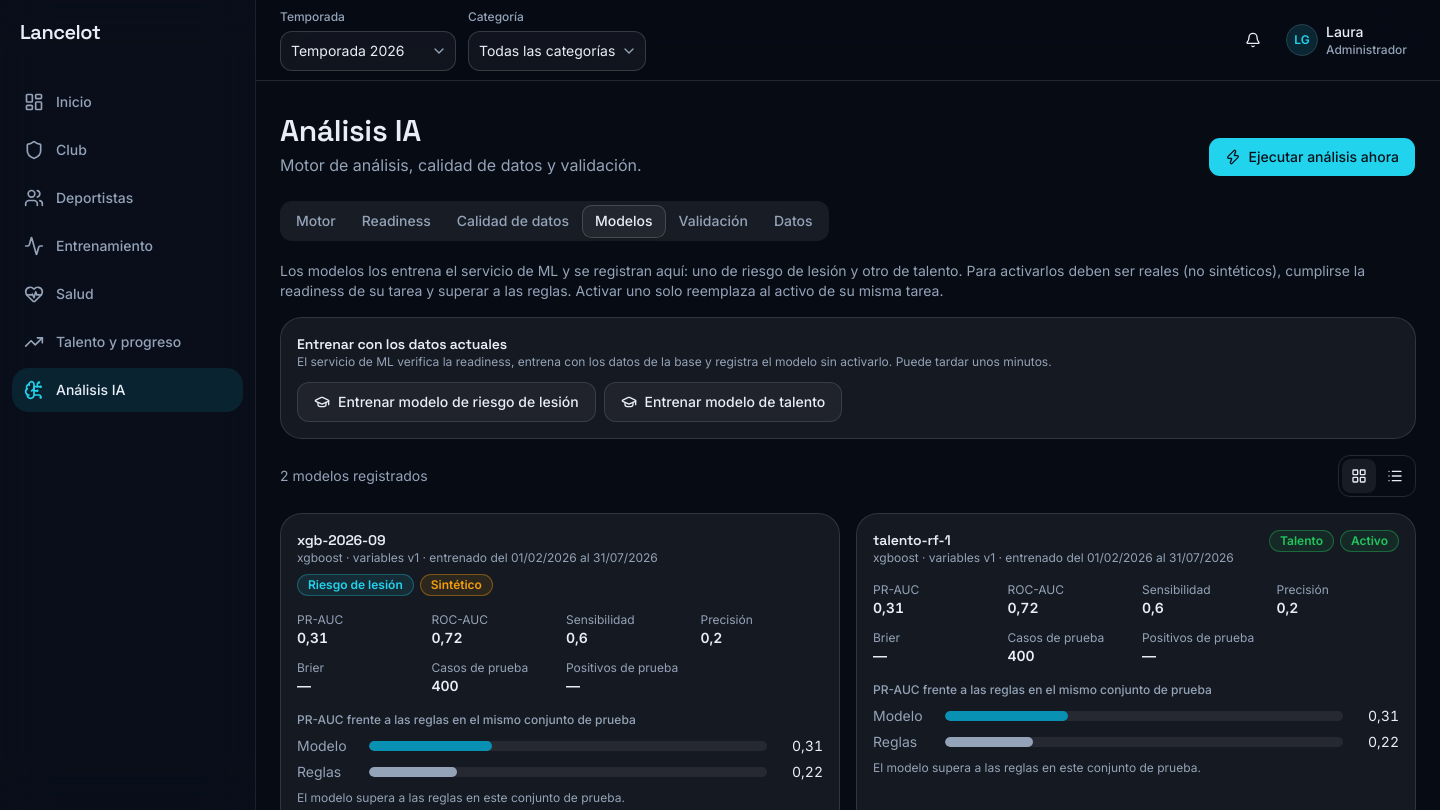
análisis IA › muestra los modelos en una tabla con sus acciones
Click the button named "Ver como tabla" at (1395, 476), box [1377, 458, 1413, 494]
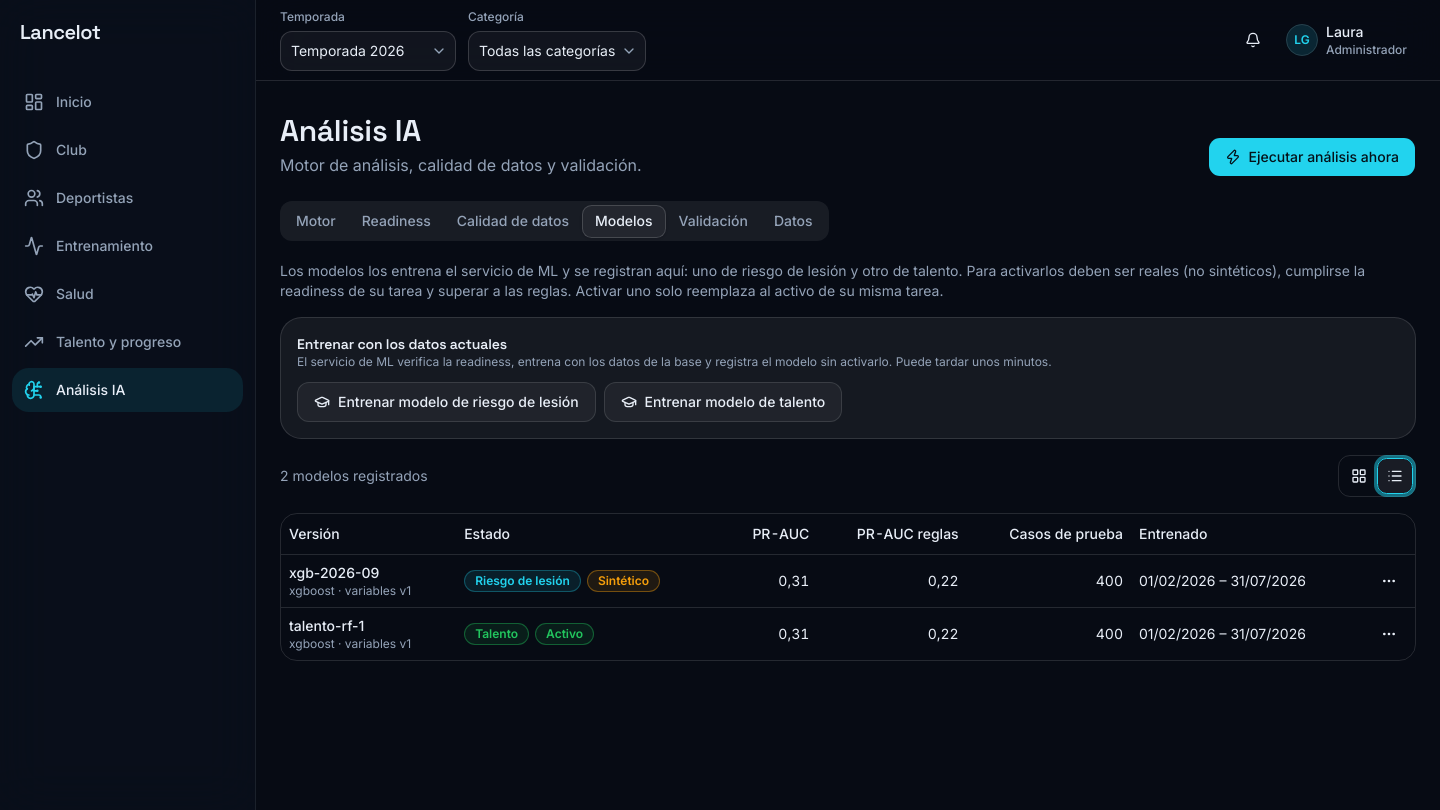
expect the text "xgb-2026-09" is shown: met, box [289, 564, 379, 580]
expect the text "talento-rf-1" is shown: met, box [289, 616, 364, 634]
Click the button named "Más acciones para xgb-2026-09" at (1389, 580), box [1371, 562, 1407, 598]
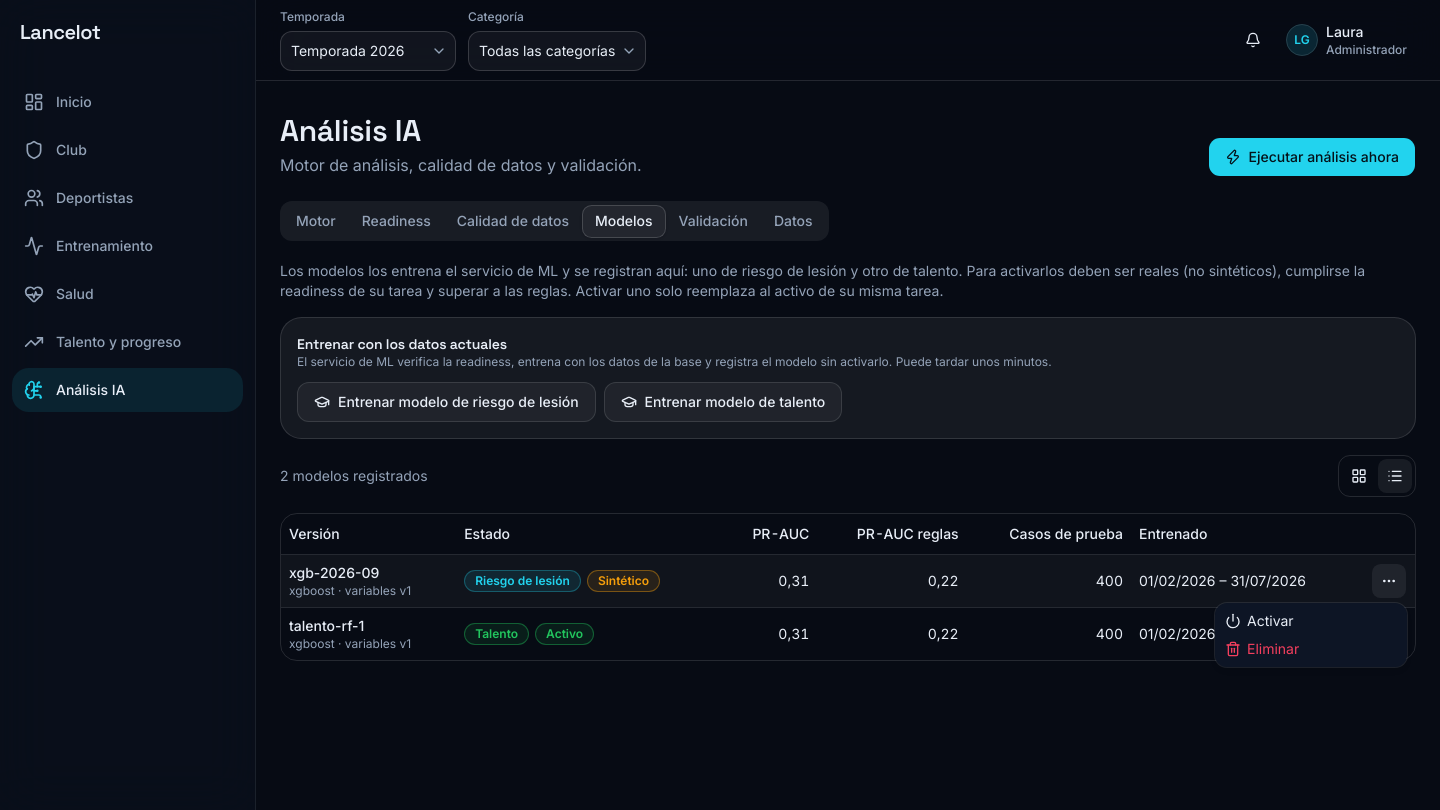
expect the menu item "Activar" is shown: met, box [1225, 612, 1294, 629]
expect the menu item "Eliminar" is shown: met, box [1225, 640, 1299, 657]
